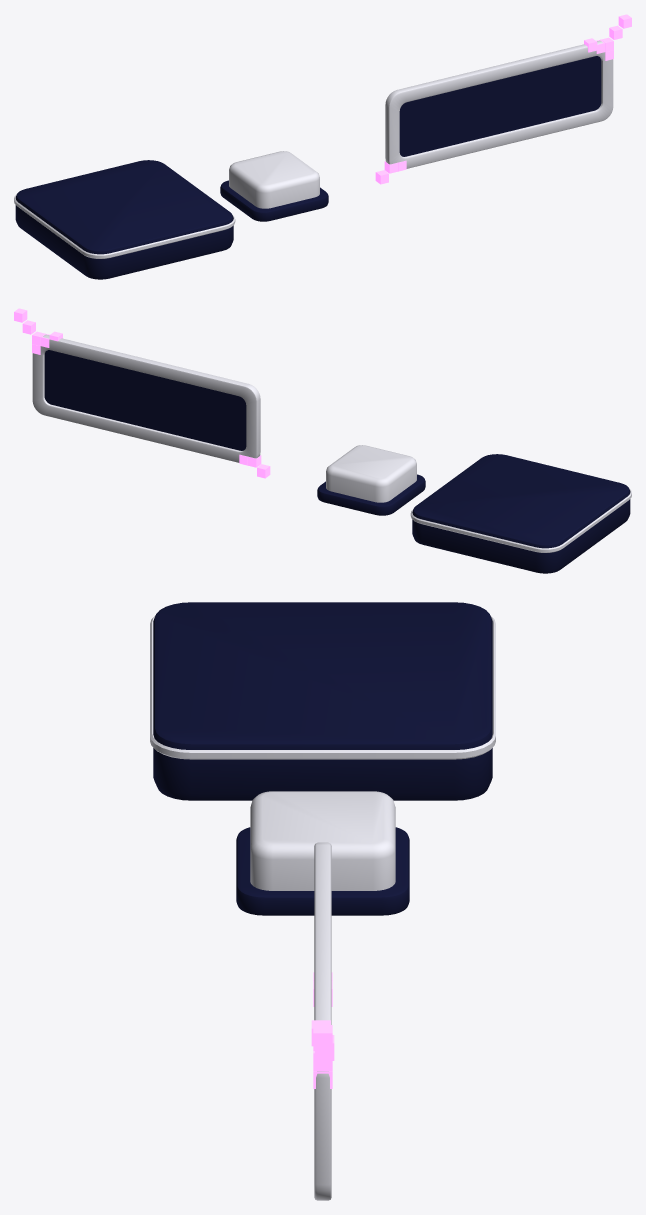
File: PrologueUI.fbx
The picture shows the model from 3 angles, top to bottom: view 1: azimuth 30°, elevation 25°; view 2: azimuth 150°, elevation 25°; view 3: azimuth 270°, elevation 25°; orthographic projection. The views are drawn at different scales.
Parts seen in each view (by area): view 1: PR_UIPanel_Body, PR_TitleCard_Screen, PR_TitleCard_Frame, PR_MenuButton_Cap, PR_MenuButton_Base, PR_UIPanel_Trim, PR_TitleCard_Glitch; view 2: PR_UIPanel_Body, PR_TitleCard_Screen, PR_TitleCard_Frame, PR_MenuButton_Cap, PR_MenuButton_Base, PR_UIPanel_Trim, PR_TitleCard_Glitch; view 3: PR_UIPanel_Body, PR_MenuButton_Cap, PR_MenuButton_Base, PR_TitleCard_Frame, PR_UIPanel_Trim, PR_TitleCard_Glitch.
Part boxes in pixels (left/top/right/bottom): PR_UIPanel_Body: left=15, top=160, right=233, bottom=279; PR_TitleCard_Screen: left=399, top=56, right=601, bottom=156; PR_TitleCard_Frame: left=385, top=40, right=613, bottom=168; PR_MenuButton_Cap: left=229, top=151, right=319, bottom=208; PR_MenuButton_Base: left=220, top=180, right=328, bottom=221; PR_UIPanel_Trim: left=14, top=195, right=235, bottom=258; PR_TitleCard_Glitch: left=375, top=14, right=631, bottom=184; PR_UIPanel_Body: left=412, top=454, right=630, bottom=573; PR_TitleCard_Screen: left=44, top=350, right=246, bottom=450; PR_TitleCard_Frame: left=32, top=334, right=260, bottom=462; PR_MenuButton_Cap: left=326, top=445, right=416, bottom=502; PR_MenuButton_Base: left=317, top=474, right=425, bottom=515; PR_UIPanel_Trim: left=410, top=489, right=631, bottom=552; PR_TitleCard_Glitch: left=14, top=308, right=270, bottom=478; PR_UIPanel_Body: left=153, top=602, right=492, bottom=800; PR_MenuButton_Cap: left=250, top=791, right=395, bottom=890; PR_MenuButton_Base: left=236, top=827, right=409, bottom=915; PR_TitleCard_Frame: left=314, top=842, right=331, bottom=1200; PR_UIPanel_Trim: left=150, top=615, right=495, bottom=759; PR_TitleCard_Glitch: left=311, top=972, right=334, bottom=1088.
Bounding box in the file's own units: 7736 × 1343 × 2000.
